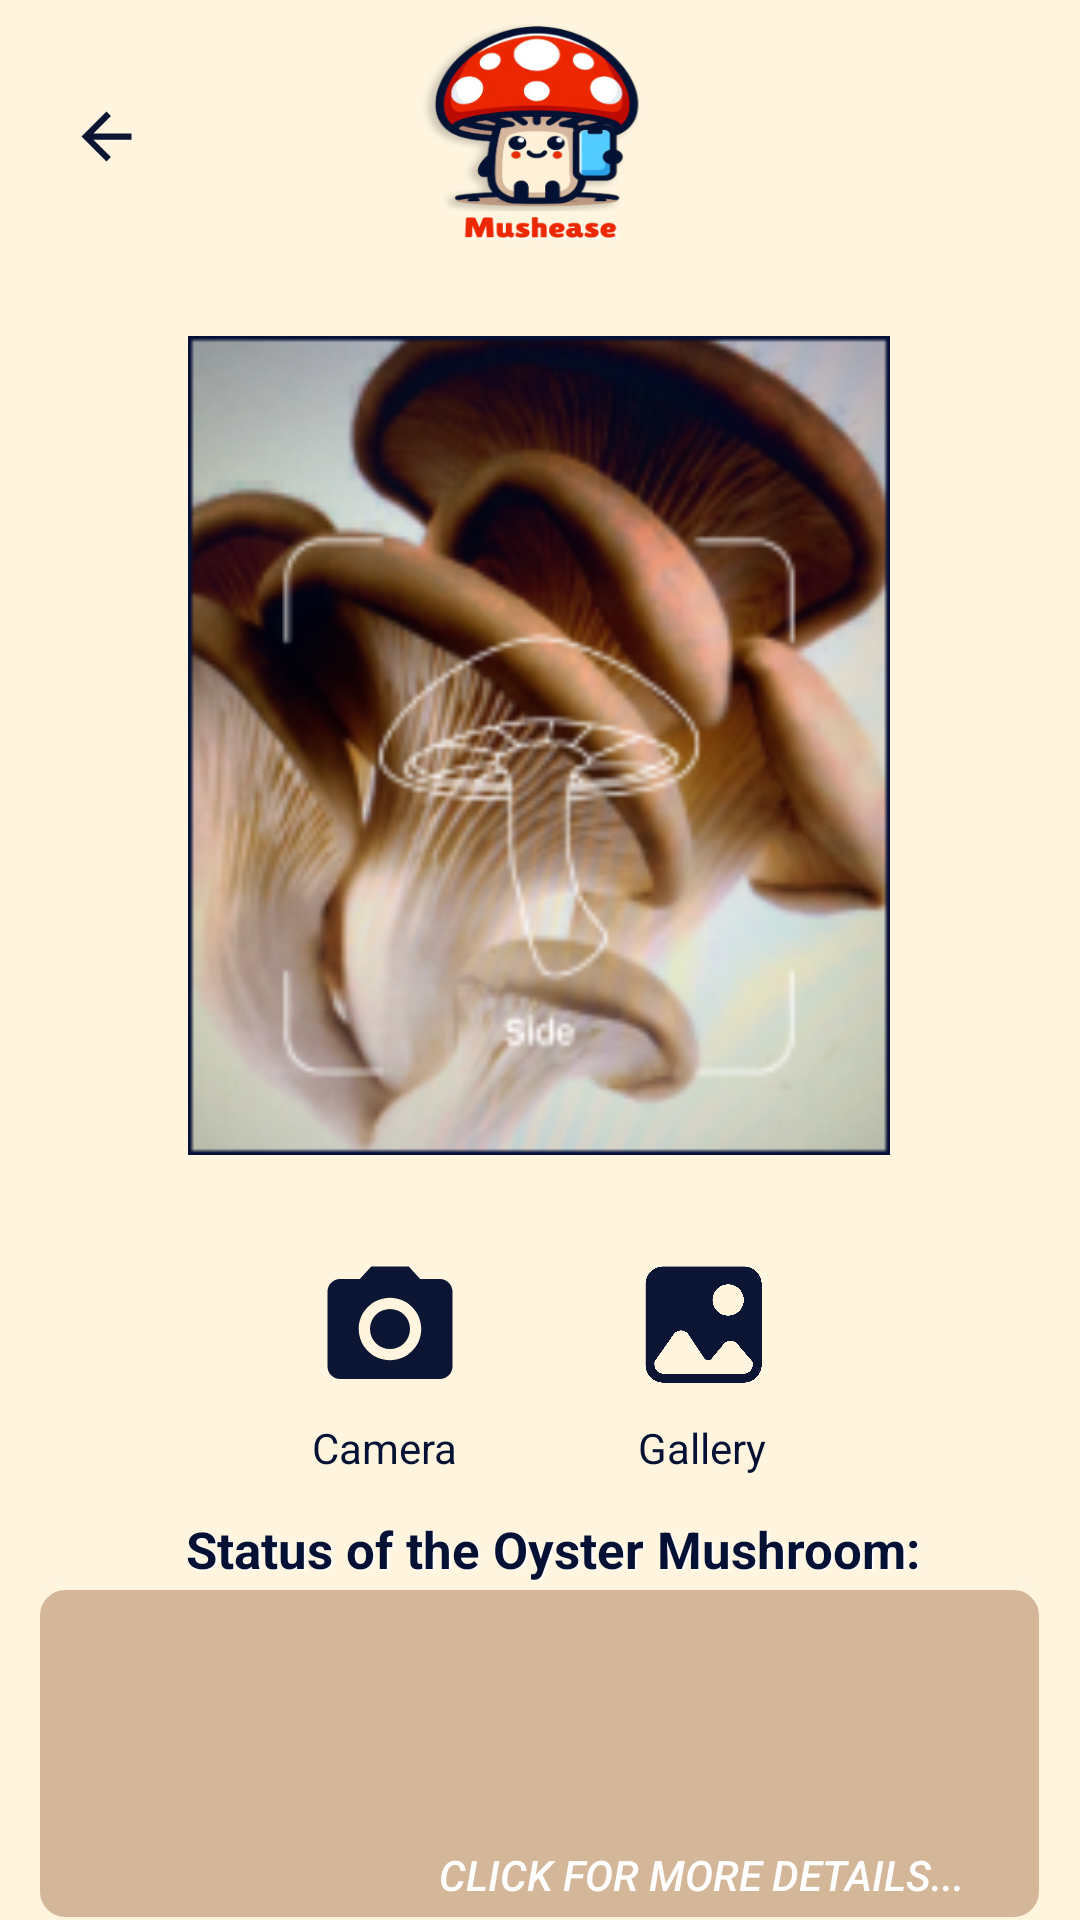

Where icons sit on this 1080 × 1920 app screen, as BBox(x1, y1, x2, y2):
backarr: BBox(81, 111, 132, 162)
cam: BBox(327, 1266, 453, 1379)
